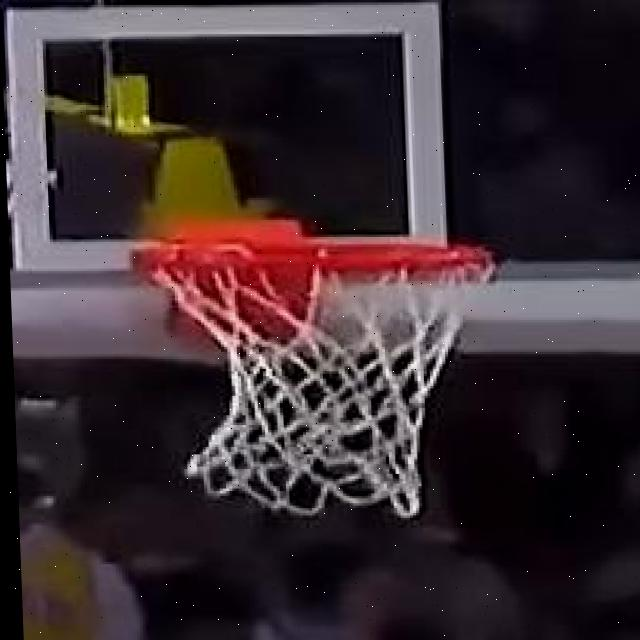hoop: (111, 229, 526, 524)
